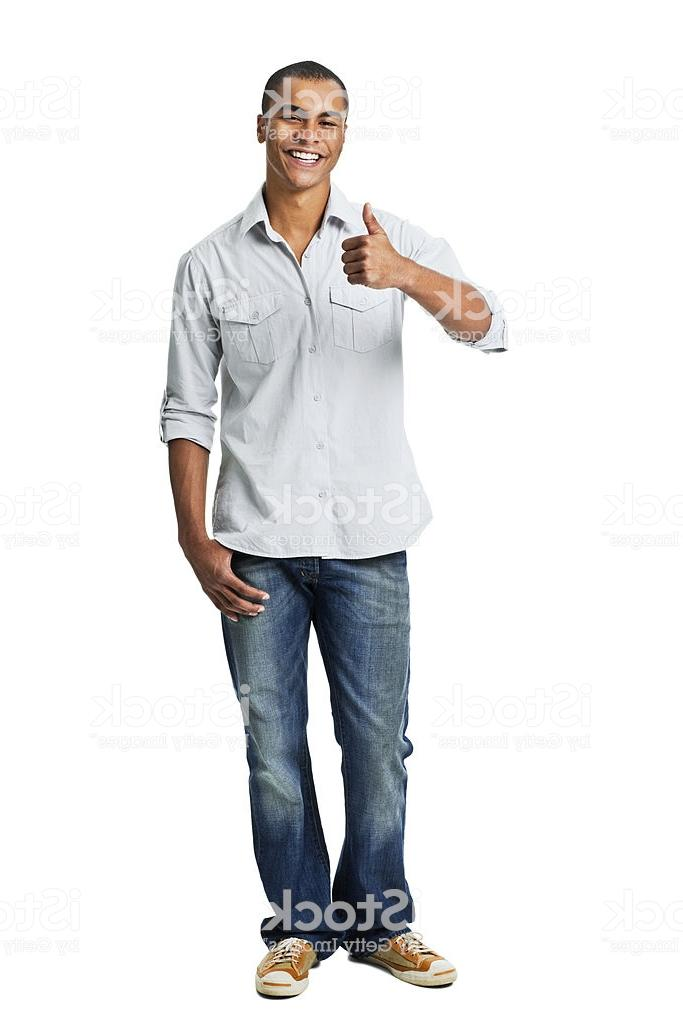thumbsup: (339, 202, 382, 289)
